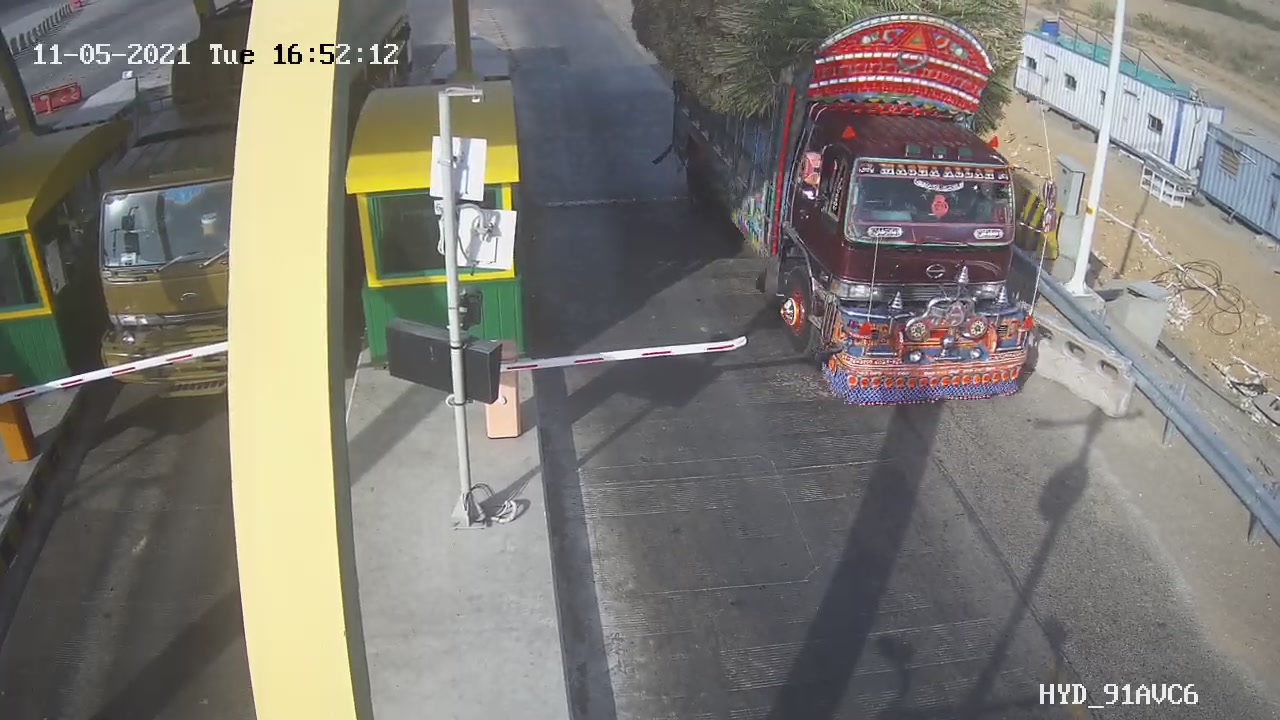F5: (637, 7, 1089, 426)
